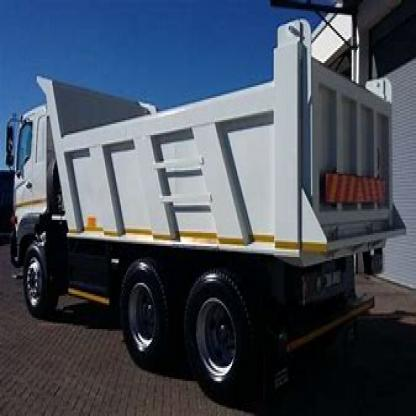dump_truck: (9, 20, 388, 396)
